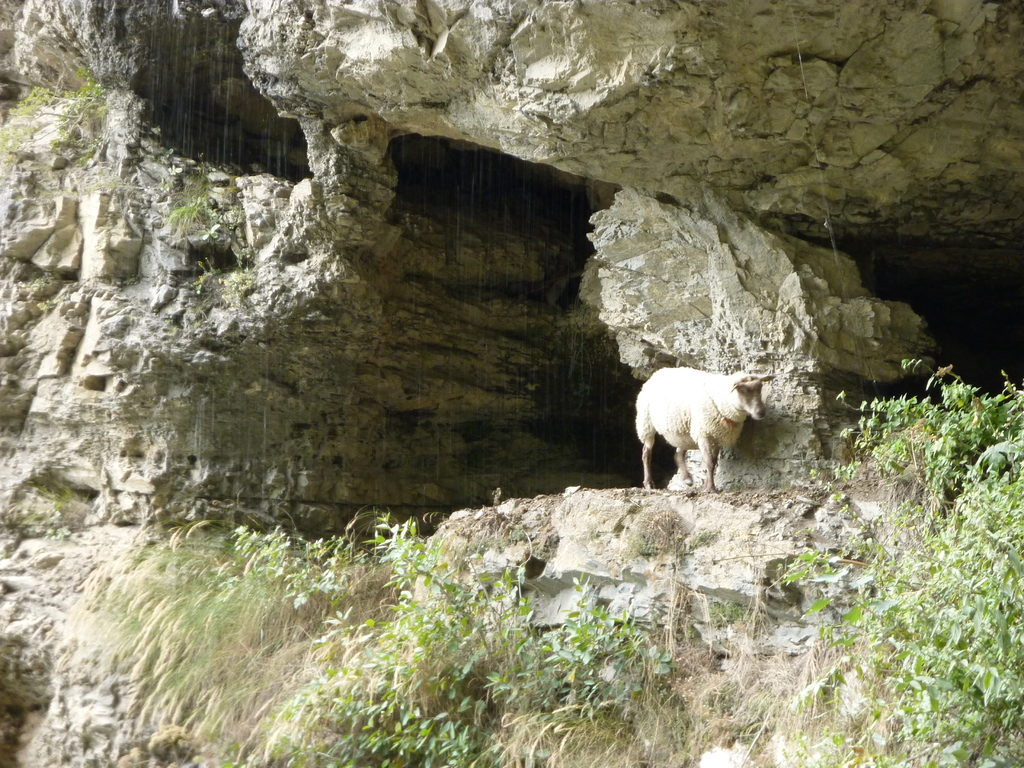sheep: (631, 355, 773, 499)
